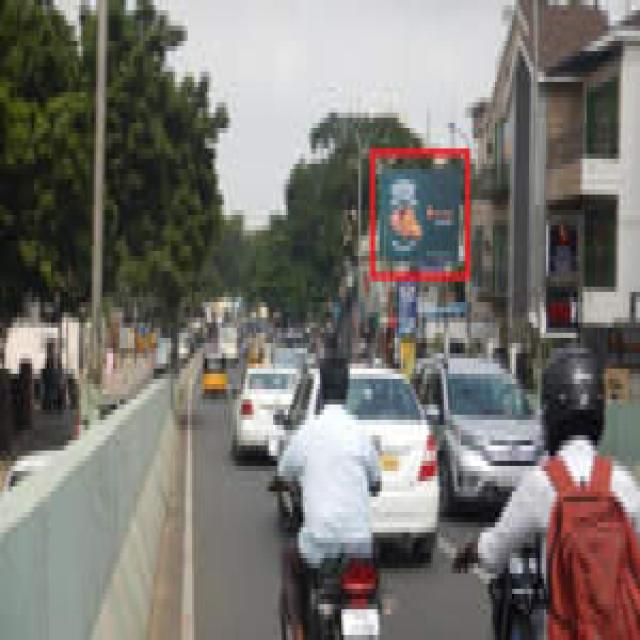Werbetafel frei: (373, 156, 469, 277)
